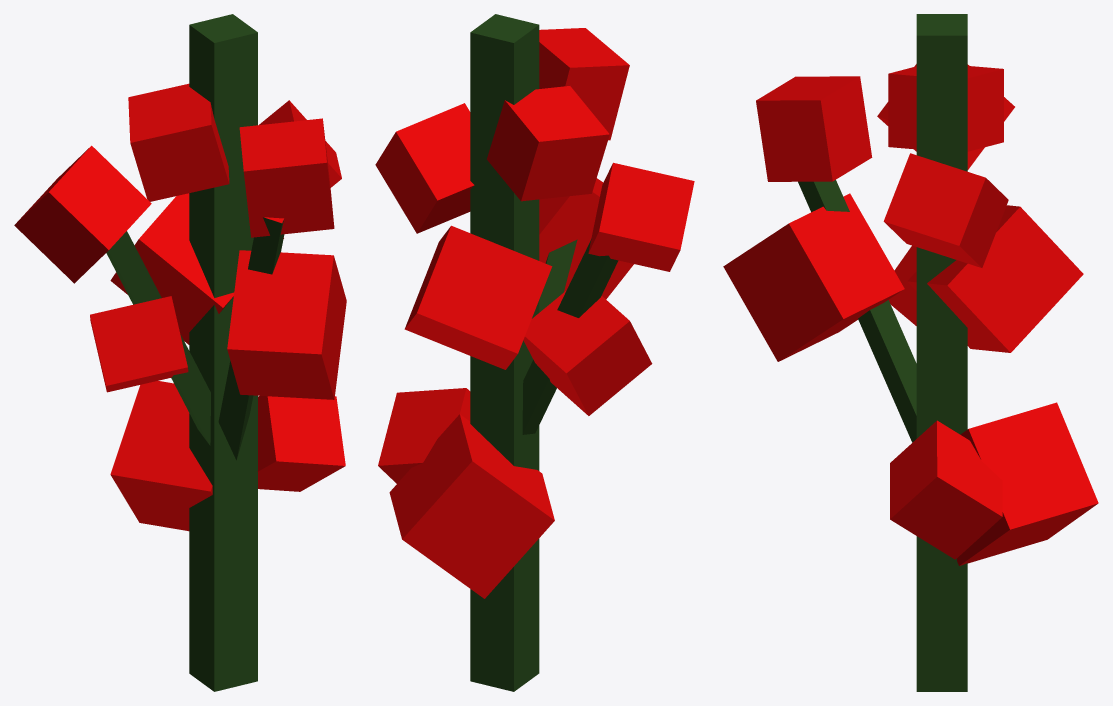
The model's file is Tomatoes 1.fbx.
The picture shows the model from 3 angles, left to right: view 1: azimuth 30°, elevation 25°; view 2: azimuth 150°, elevation 25°; view 3: azimuth 270°, elevation 25°; orthographic projection.
Visible parts, largest first — view 1: Cube.008; view 2: Cube.008; view 3: Cube.008.
Boxes of the visible parts, x1,y1,x2,y2 form: Cube.008: (14, 14, 346, 691); Cube.008: (375, 14, 694, 691); Cube.008: (723, 14, 1098, 691).
Size of the model in its own units: 310 by 613 by 318.
